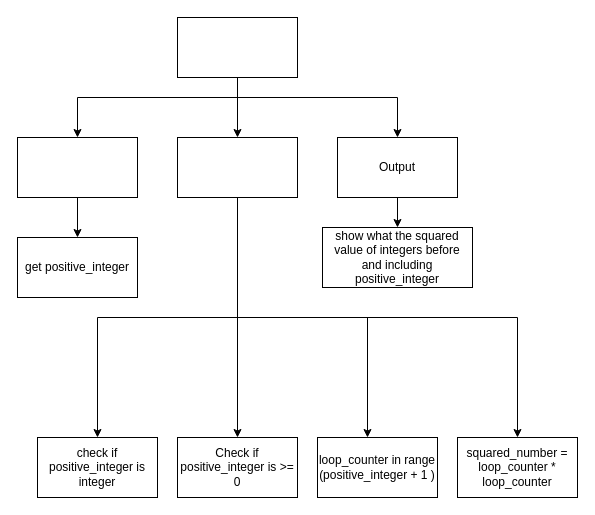
This 595x515 diagram has some shape labels left out. The centre of each missing label's shape, as x and y in pixels:
"Input" goes at (x=77, y=167).
"Process" goes at (x=237, y=167).
"while loops" goes at (x=237, y=47).
